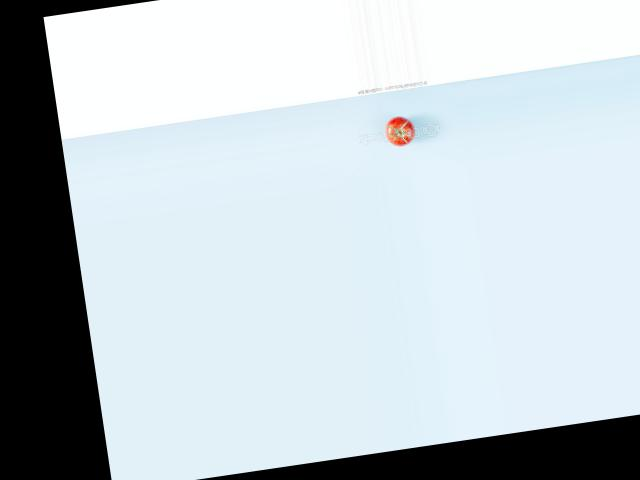tomato: (383, 113, 415, 147)
